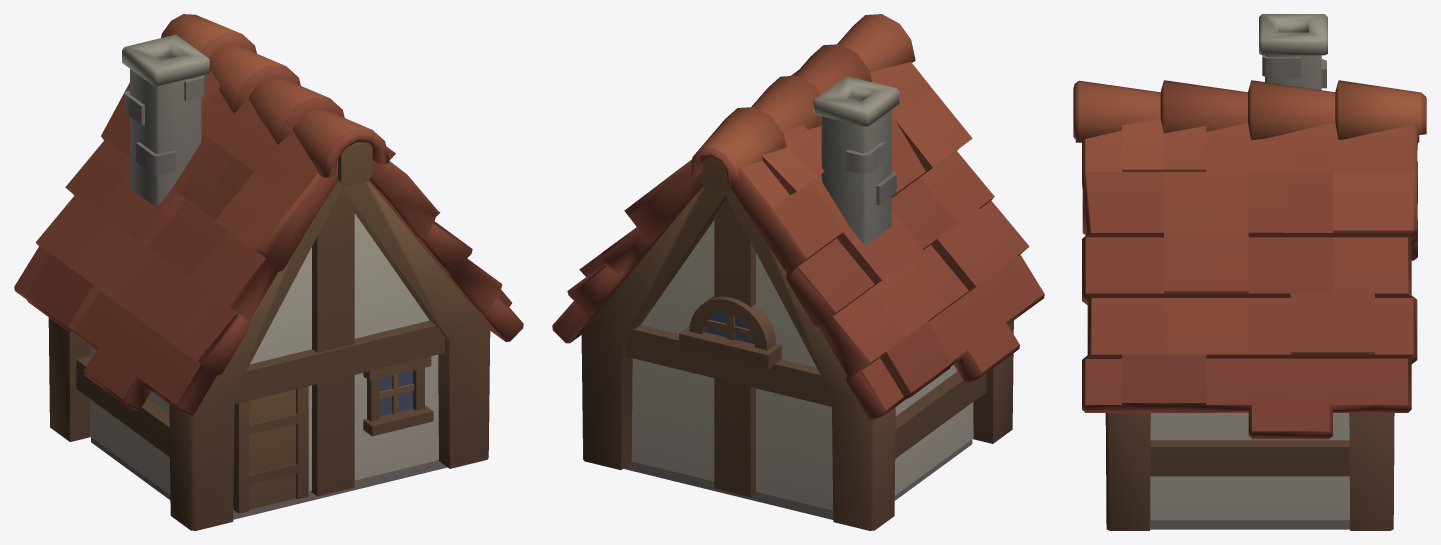
File: house1_bevelParts.fbx
The picture shows the model from 3 angles, left to right: view 1: azimuth 30°, elevation 25°; view 2: azimuth 150°, elevation 25°; view 3: azimuth 270°, elevation 25°; orthographic projection. The views are drawn at different scales.
Visible parts, largest first — view 1: house1_edge, house1_noEdge; view 2: house1_edge, house1_noEdge; view 3: house1_edge, house1_noEdge.
Part boxes in pixels (x1=…): house1_edge: x1=14, y1=14, x2=523, y2=530; house1_noEdge: x1=76, y1=142, x2=447, y2=519; house1_edge: x1=552, y1=14, x2=1044, y2=530; house1_noEdge: x1=623, y1=158, x2=986, y2=519; house1_edge: x1=1073, y1=14, x2=1426, y2=530; house1_noEdge: x1=1075, y1=135, x2=1419, y2=529.
Size of the model in its own units: 400 by 417 by 330.
